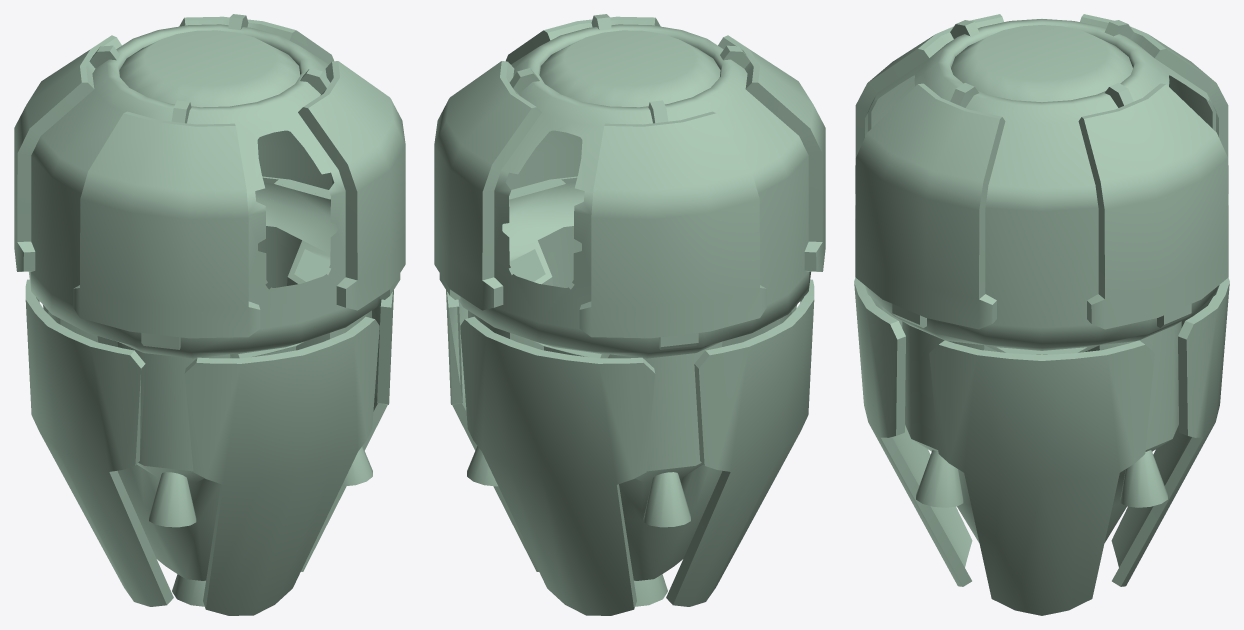
Rendered from REENTRY_CRAFT_static_closed_holes_LOD.fbx.
3 renders of one model, left to right at view 1: azimuth 30°, elevation 25°; view 2: azimuth 150°, elevation 25°; view 3: azimuth 270°, elevation 25°, orthographic.
Parts seen in each view (by area): view 1: EPOD_static_closed_holes_LOD1_GEO; view 2: EPOD_static_closed_holes_LOD1_GEO; view 3: EPOD_static_closed_holes_LOD1_GEO.
Boxes of the visible parts, x1,y1,x2,y2 form: EPOD_static_closed_holes_LOD1_GEO: (14, 14, 405, 615); EPOD_static_closed_holes_LOD1_GEO: (434, 14, 825, 615); EPOD_static_closed_holes_LOD1_GEO: (854, 14, 1229, 615).
Bounding box in the file's own units: 5.95 × 9.33 × 5.95.
